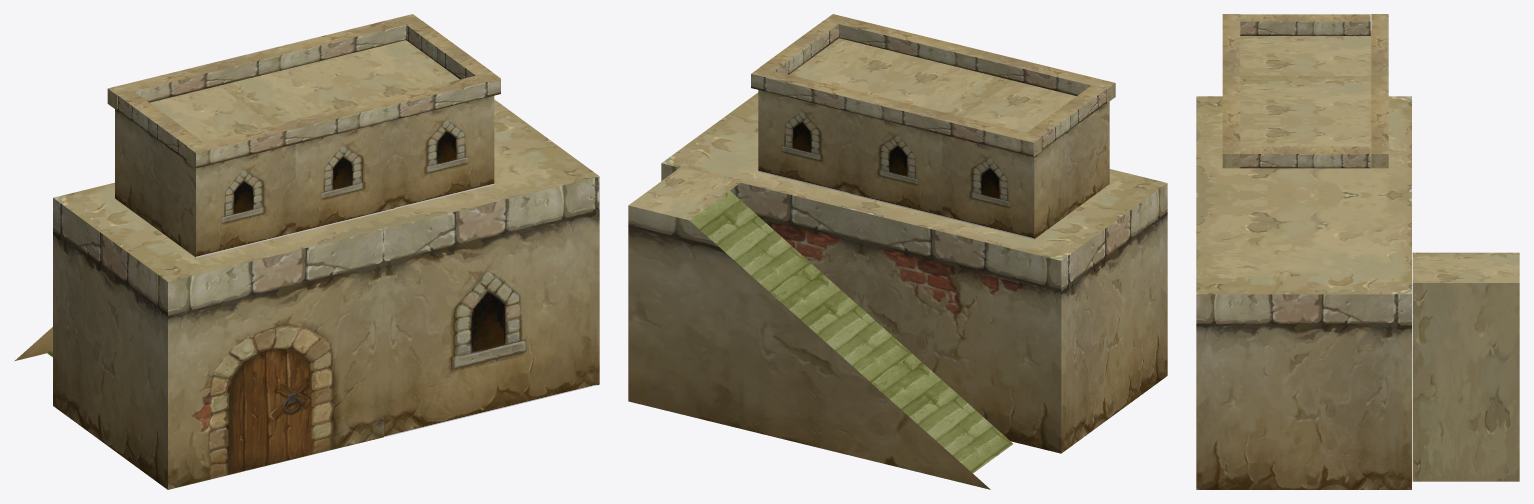
The model's file is shamo_fangzi_2.fbx.
3 views of the same model, side by side, from view 1: azimuth 30°, elevation 25°; view 2: azimuth 150°, elevation 25°; view 3: azimuth 270°, elevation 25° (orthographic). The views are drawn at different scales.
Visible parts, largest first — view 1: polySurface226, polySurface220, polySurface219, polySurface218, polySurface227, polySurface221, polySurface223, polySurface222; view 2: polySurface226, polySurface224, polySurface225, polySurface220, polySurface219, polySurface218, polySurface221, polySurface227, polySurface223, polySurface222; view 3: polySurface226, polySurface224, polySurface219, polySurface220, polySurface218, polySurface222, polySurface227, polySurface223, polySurface221.
Boxes of the visible parts, x1,y1,x2,y2 form: polySurface226: [53, 99, 599, 489]; polySurface220: [115, 86, 295, 257]; polySurface219: [219, 61, 394, 233]; polySurface218: [318, 40, 494, 208]; polySurface227: [186, 72, 500, 168]; polySurface221: [107, 14, 421, 110]; polySurface223: [117, 91, 202, 160]; polySurface222: [406, 21, 491, 79]; polySurface226: [661, 92, 1167, 453]; polySurface224: [628, 167, 990, 489]; polySurface225: [689, 191, 1012, 473]; polySurface220: [942, 80, 1109, 239]; polySurface219: [850, 58, 1011, 216]; polySurface218: [758, 38, 919, 193]; polySurface221: [751, 67, 1042, 156]; polySurface227: [824, 14, 1115, 103]; polySurface223: [1027, 85, 1106, 149]; polySurface222: [760, 20, 838, 74]; polySurface226: [1196, 96, 1411, 489]; polySurface224: [1412, 252, 1519, 481]; polySurface219: [1240, 76, 1371, 121]; polySurface220: [1240, 31, 1371, 75]; polySurface218: [1240, 121, 1371, 166]; polySurface222: [1240, 146, 1370, 168]; polySurface227: [1222, 14, 1240, 168]; polySurface223: [1240, 14, 1370, 35]; polySurface221: [1371, 14, 1388, 168].
Bounding box in the file's own units: 12.41 × 8.73 × 8.57.
